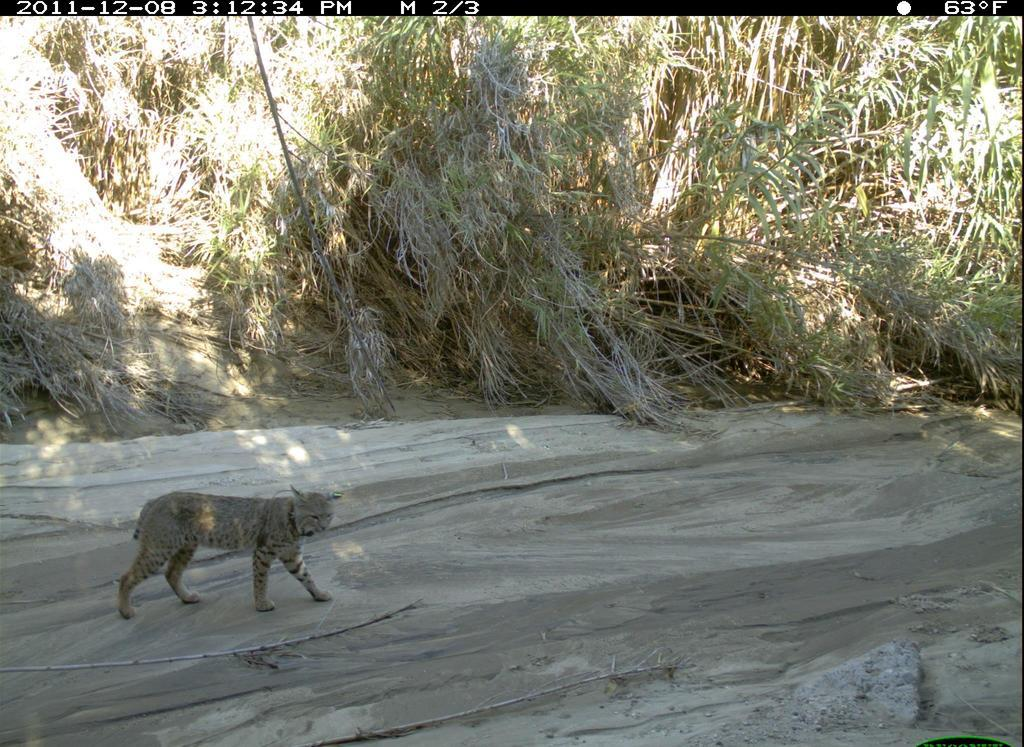bobcat: (103, 477, 377, 621)
